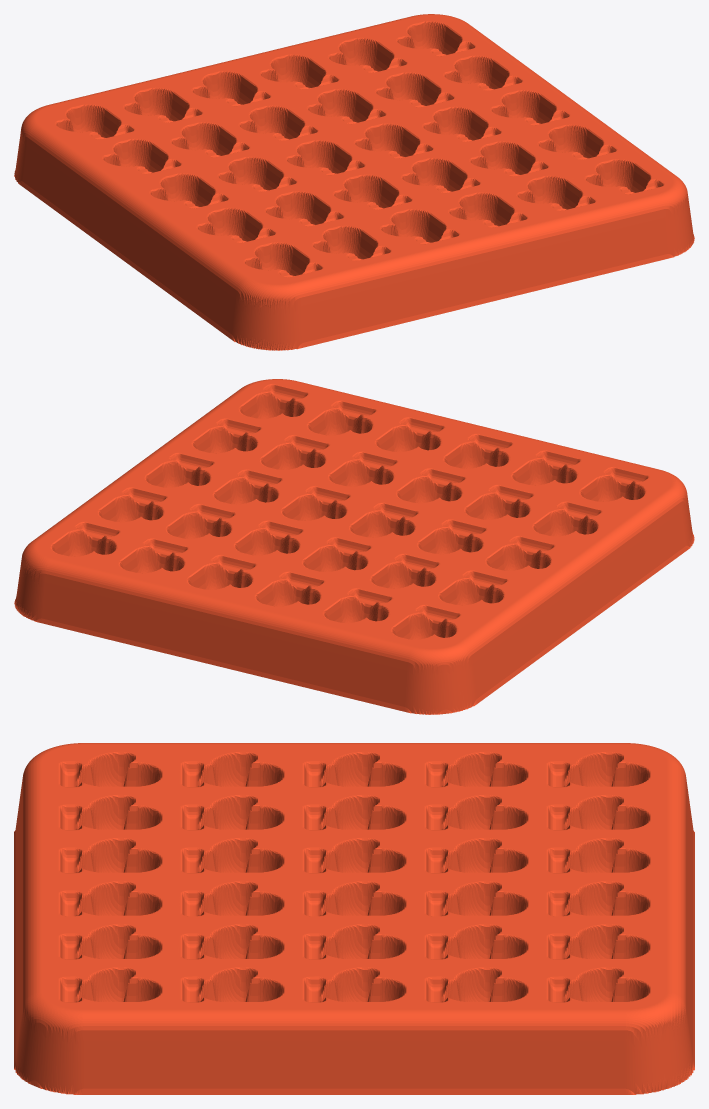
File: mold.glb
3 views of the same model, one above another, from view 1: azimuth 30°, elevation 25°; view 2: azimuth 150°, elevation 25°; view 3: azimuth 270°, elevation 25° (orthographic). The views are drawn at different scales.
Parts seen in each view (by area): view 1: geometry_0; view 2: geometry_0; view 3: geometry_0.
Part boxes in pixels (x1,y1,x2,y2): geometry_0: (14, 14, 694, 350); geometry_0: (14, 379, 694, 714); geometry_0: (14, 743, 694, 1094).
Size of the model in its own units: 0.0884 by 0.0105 by 0.0882.
